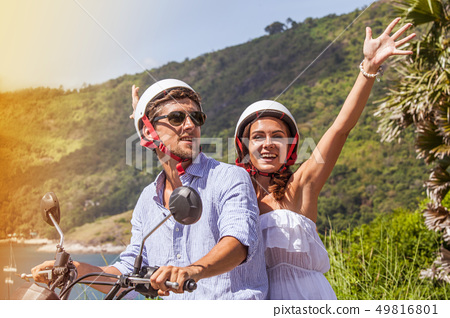helmet: (129, 72, 198, 122), (236, 93, 309, 133)
